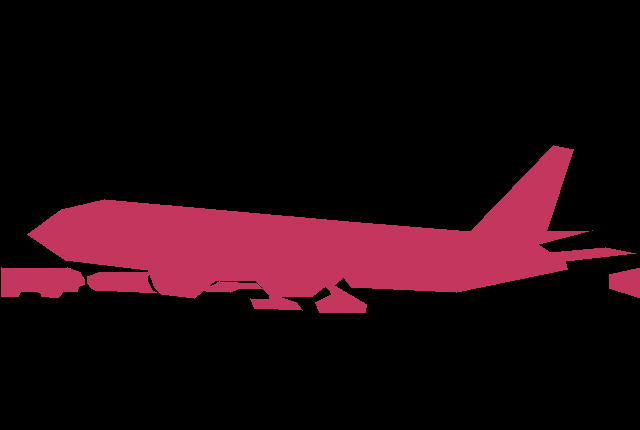Airplane: (27, 145, 636, 313), (87, 272, 262, 292), (1, 267, 85, 298), (609, 267, 640, 298)
